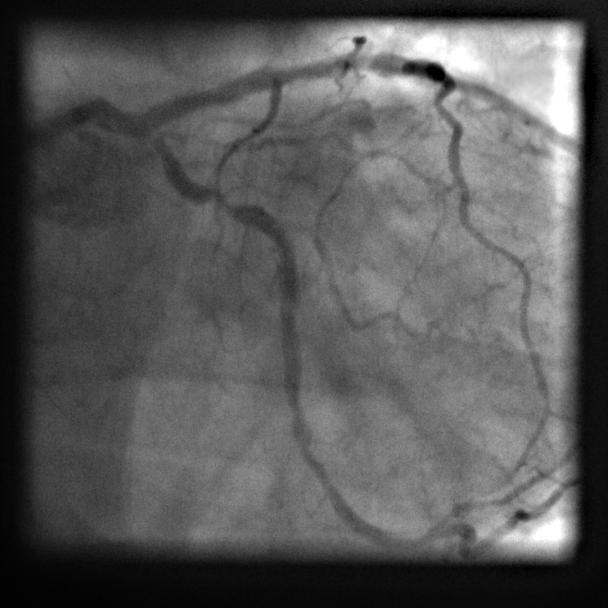Stenosis: (210, 188, 236, 217)
